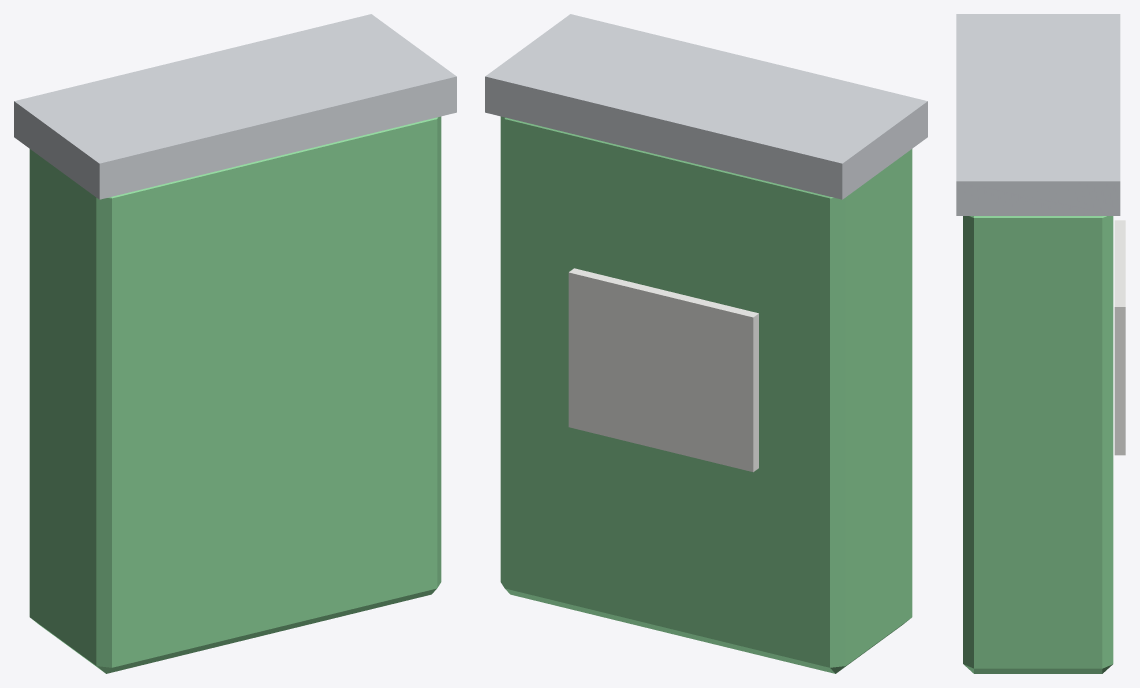
Rendered from Bolsa_Snacks.fbx.
3 views of the same model, side by side, from view 1: azimuth 30°, elevation 25°; view 2: azimuth 150°, elevation 25°; view 3: azimuth 270°, elevation 25° (orthographic). The views are drawn at different scales.
Visible parts, largest first — view 1: Bolsa_Snacks | Bolsa snacks, Bolsa_Snacks | Cierre bolsa; view 2: Bolsa_Snacks | Bolsa snacks, Bolsa_Snacks | Cierre bolsa, Bolsa_Snacks | Logo bolsa; view 3: Bolsa_Snacks | Bolsa snacks, Bolsa_Snacks | Cierre bolsa, Bolsa_Snacks | Logo bolsa.
Boxes of the visible parts, box(x1,y1,x2,y2) form: Bolsa_Snacks | Bolsa snacks: box(29, 116, 441, 673); Bolsa_Snacks | Cierre bolsa: box(14, 14, 456, 199); Bolsa_Snacks | Bolsa snacks: box(500, 116, 912, 673); Bolsa_Snacks | Cierre bolsa: box(485, 14, 927, 199); Bolsa_Snacks | Logo bolsa: box(568, 268, 758, 472); Bolsa_Snacks | Bolsa snacks: box(963, 216, 1113, 673); Bolsa_Snacks | Cierre bolsa: box(956, 14, 1120, 215); Bolsa_Snacks | Logo bolsa: box(1114, 220, 1125, 455).
Size of the model in its own units: 0.145 by 0.202 by 0.062.
